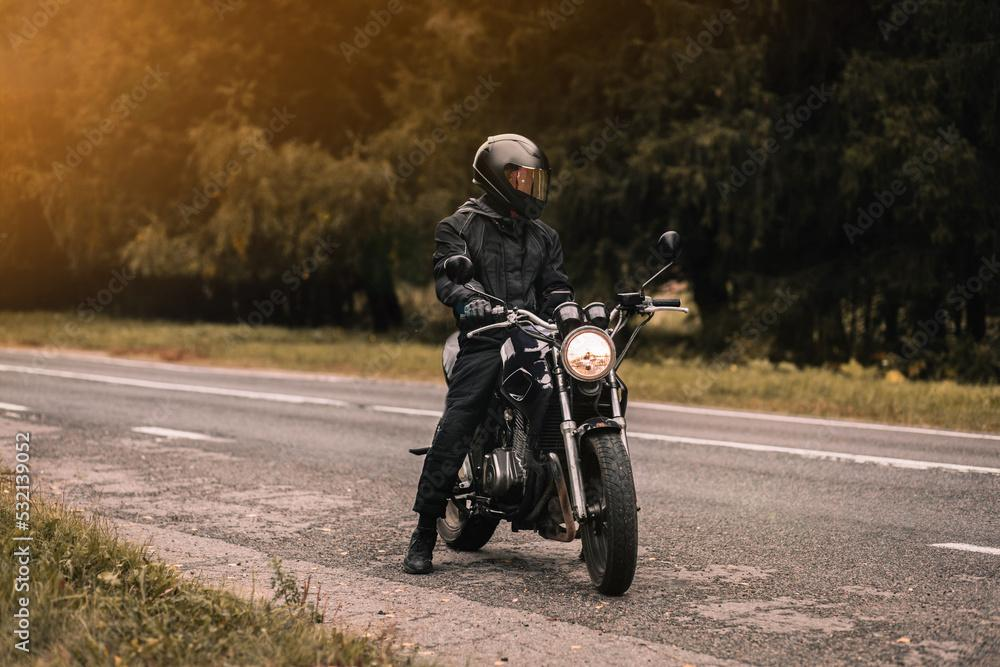helmet: (472, 132, 552, 221)
